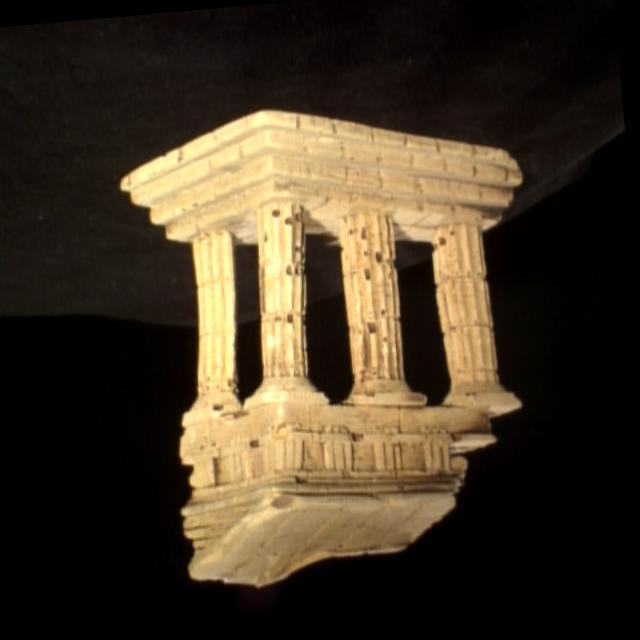Instance-Segmentation: (120, 111, 519, 585)
